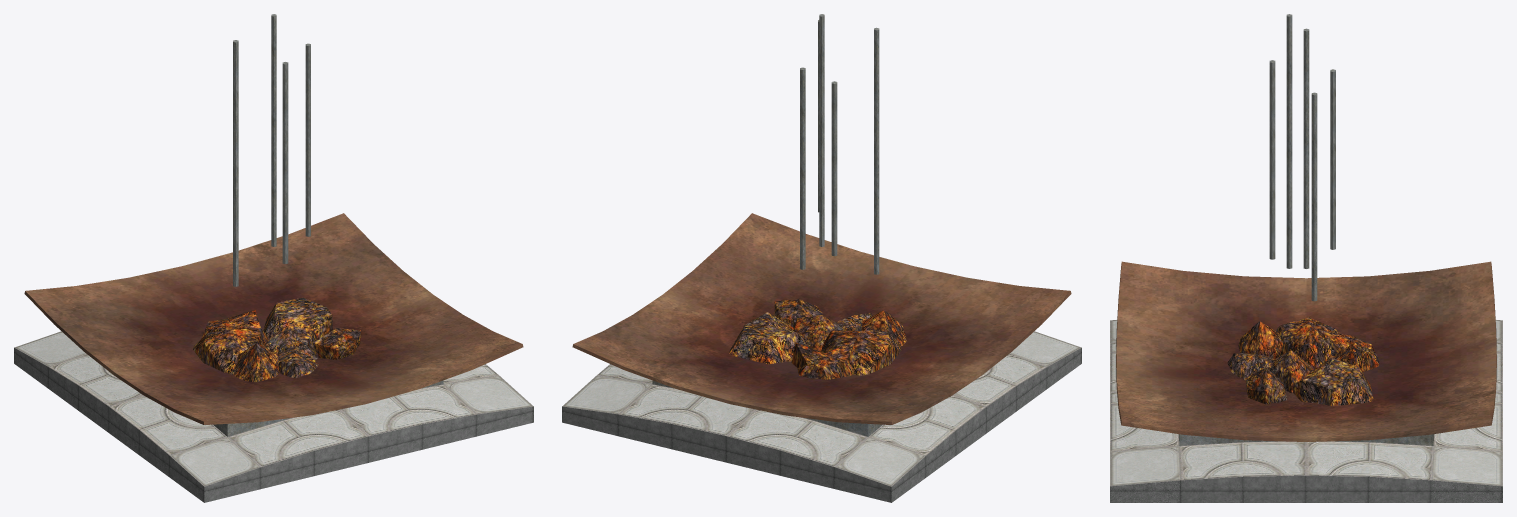
File: thm_corl_fountain_brazier_square_s01_l0.fbx
The picture shows the model from 3 angles, left to right: view 1: azimuth 30°, elevation 25°; view 2: azimuth 150°, elevation 25°; view 3: azimuth 270°, elevation 25°; orthographic projection. The views are drawn at different scales.
Parts seen in each view (by area): view 1: mesh_node; view 2: mesh_node; view 3: mesh_node.
Boxes of the visible parts, left/top/right/bottom form: mesh_node: left=14, top=14, right=533, bottom=502; mesh_node: left=562, top=14, right=1081, bottom=502; mesh_node: left=1110, top=14, right=1502, bottom=502.
Size of the model in its own units: 6 by 6.57 by 6.
